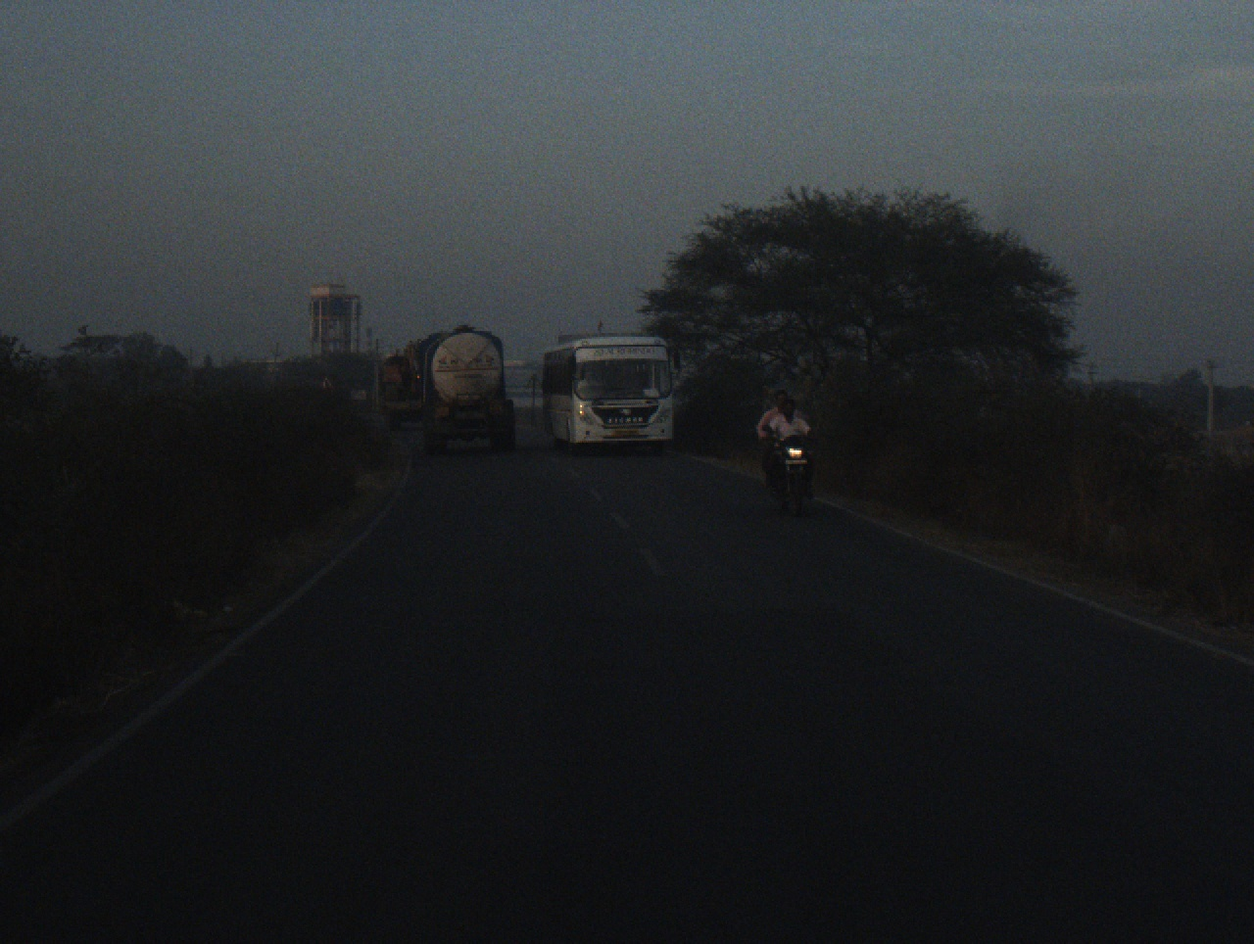bus: (535, 329, 678, 448)
motorcycle: (756, 420, 823, 513)
rider: (758, 397, 816, 490), (751, 383, 799, 446)
truck: (413, 323, 520, 461)
vehicle fallback: (375, 331, 431, 424)
